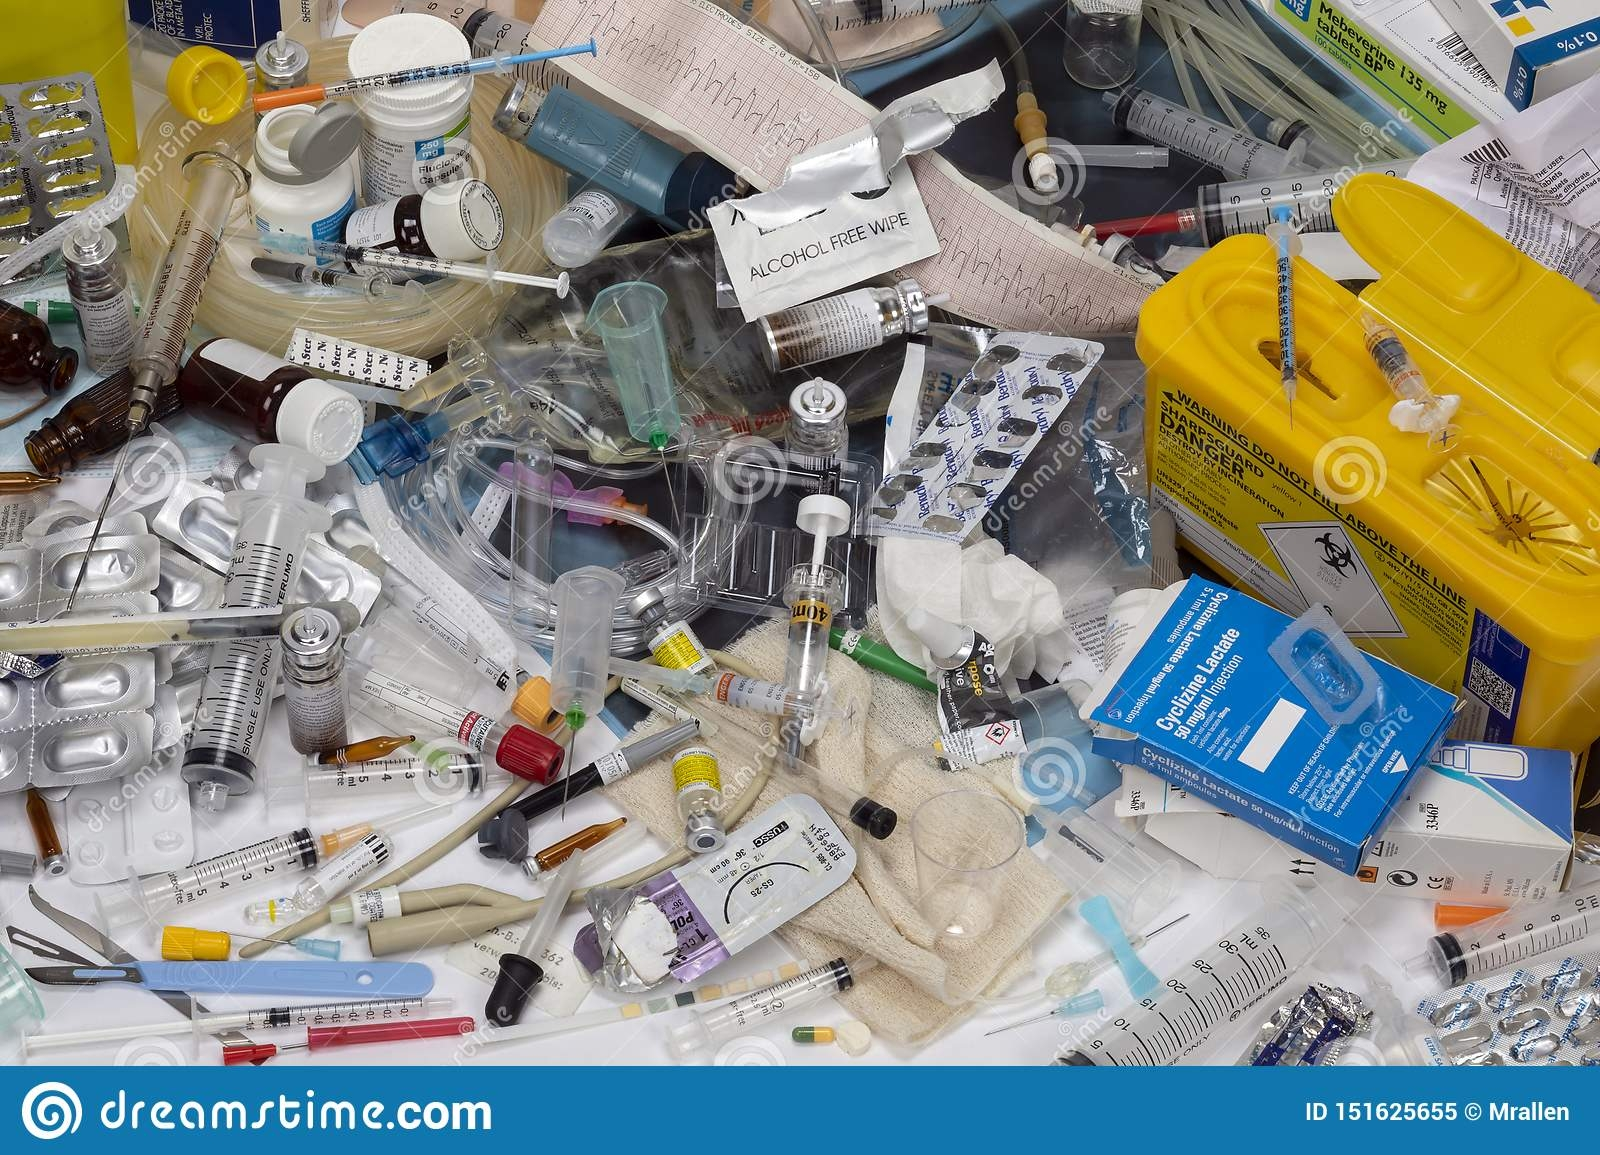glass: (173, 335, 376, 476), (333, 164, 525, 293), (17, 346, 191, 482), (270, 599, 368, 766)
paper: (1071, 555, 1468, 881), (675, 47, 1042, 320), (1092, 733, 1581, 923)
plastic: (134, 423, 344, 823), (62, 777, 486, 953), (1094, 128, 1499, 293), (1012, 864, 1335, 1071), (1, 529, 159, 782), (343, 29, 509, 224), (525, 541, 643, 808), (576, 268, 696, 528), (329, 658, 566, 782), (1087, 79, 1320, 188), (234, 107, 364, 291), (1243, 196, 1324, 443), (1347, 282, 1466, 442)
